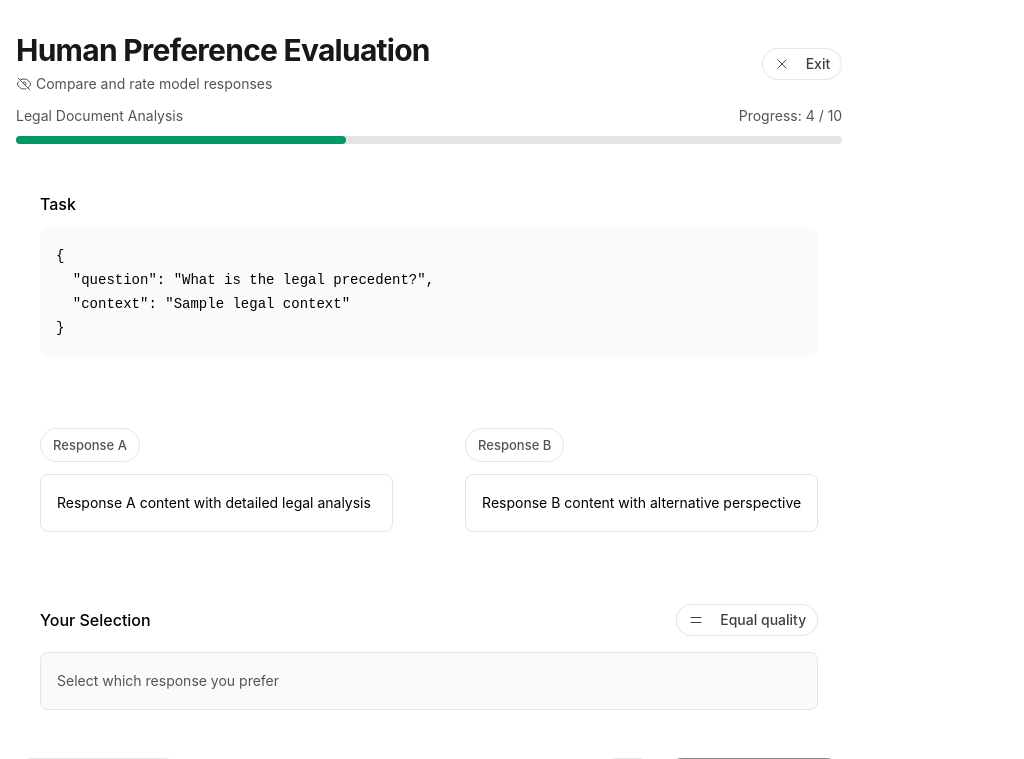
Test case: PreferenceEvaluation › selection handling › clears winner selection when marking as tie
The width and height of the screenshot is (1024, 759).
Expected: the text "Response A" is shown, [40,428,140,462]
Click the element with test id "card" that starts with "Response A" at {"x": 217, "y": 480}, box [16,404,417,556]
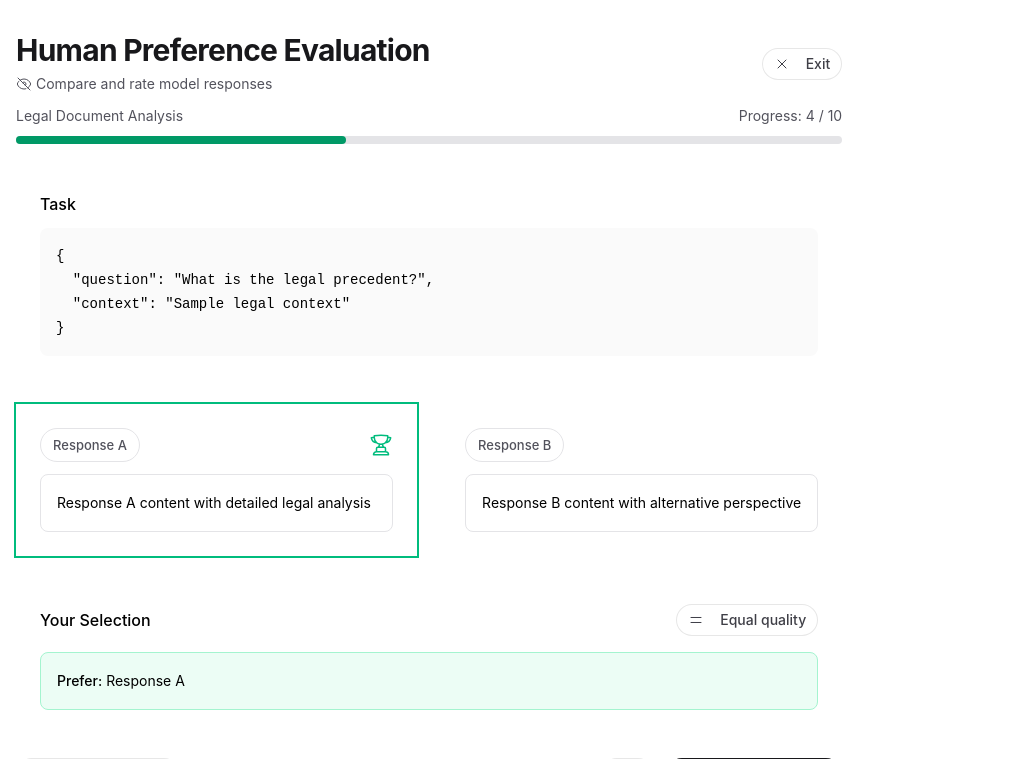
Expected: the text "Prefer:" is shown, [57,672,102,689]
Click the button "Equal quality" at {"x": 747, "y": 620}, box [676,604,818,636]
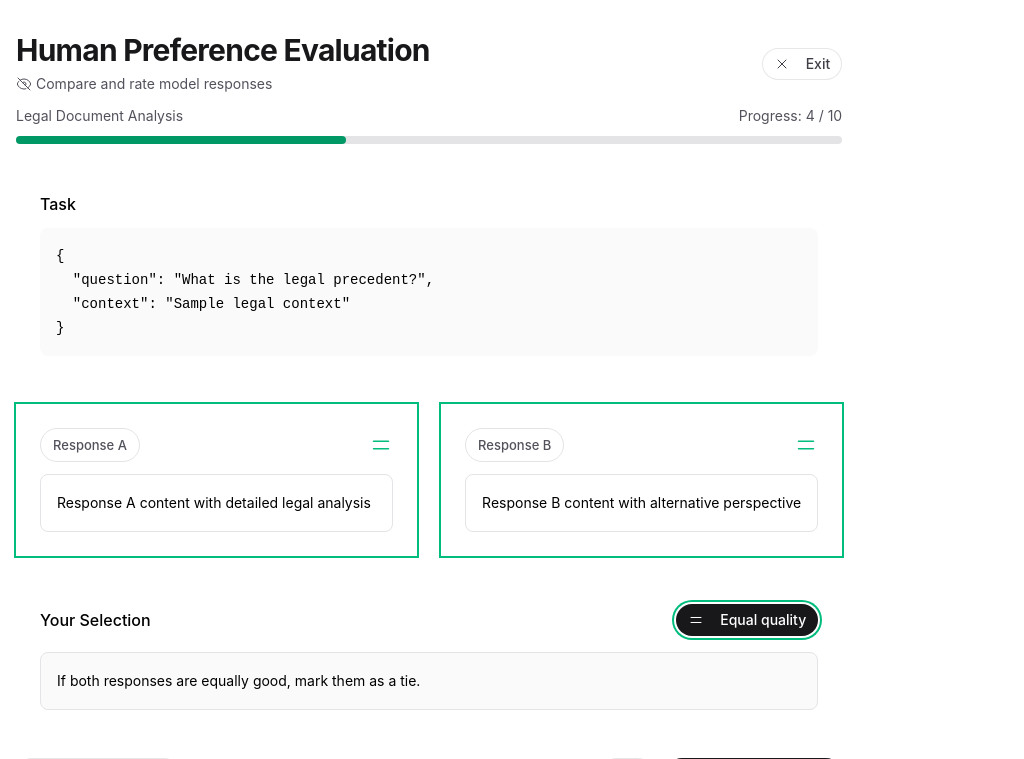
Expected: the text "Prefer:" is gone
Expected: the text "If both responses are equally good, mark them as a tie." is shown, [57,672,420,689]
